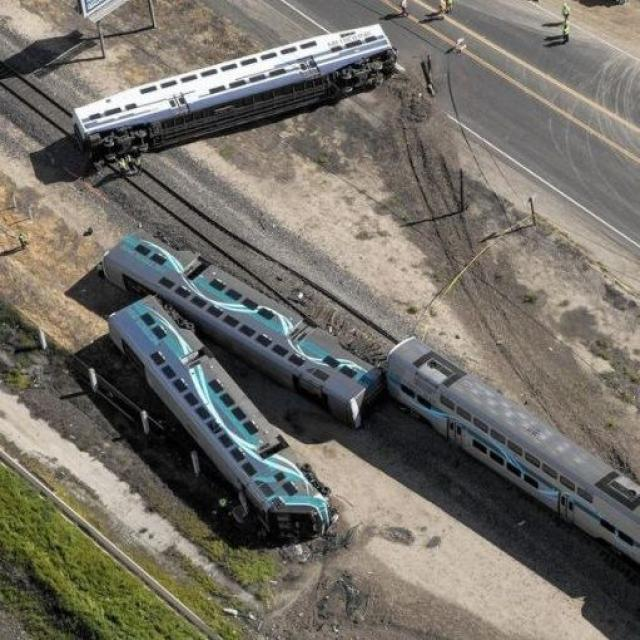traffic_incident: (75, 206, 639, 587), (49, 14, 417, 187)
